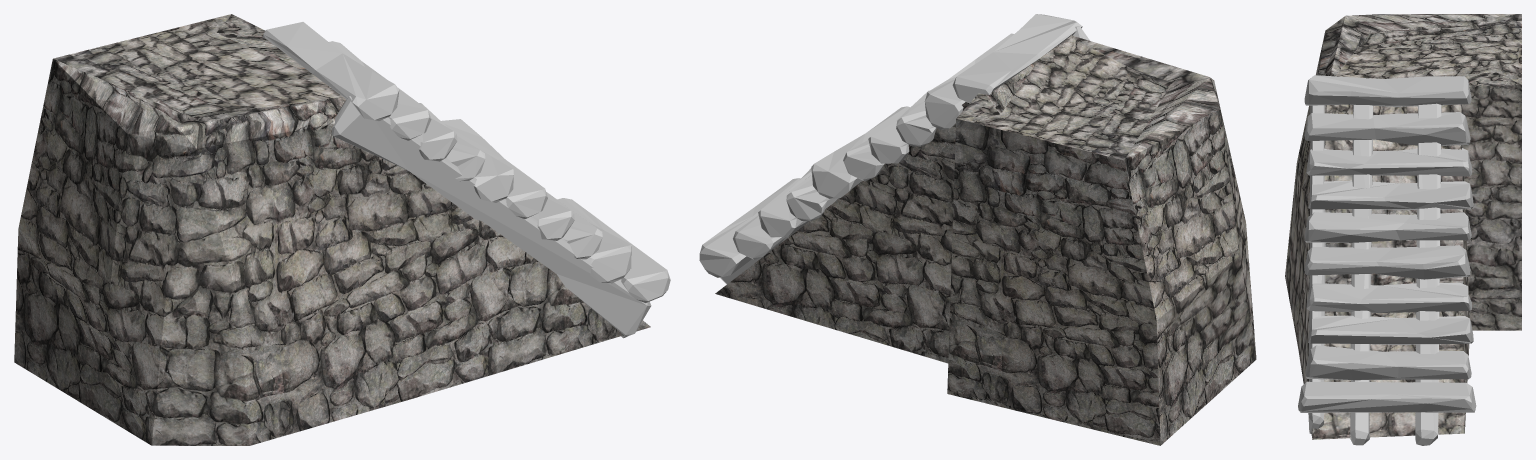
Rendered from StoneRamp_1b_LOD2.fbx.
3 renders of one model, left to right at view 1: azimuth 30°, elevation 25°; view 2: azimuth 150°, elevation 25°; view 3: azimuth 270°, elevation 25°, orthographic. The views are drawn at different scales.
Parts seen in each view (by area): view 1: Stone, Wood; view 2: Stone, Wood; view 3: Wood, Stone.
Part boxes in pixels (x1=…): Stone: x1=14, y1=14, x2=650, y2=445; Wood: x1=262, y1=22, x2=670, y2=338; Stone: x1=715, y1=35, x2=1256, y2=445; Wood: x1=699, y1=14, x2=1089, y2=284; Wood: x1=1298, y1=75, x2=1476, y2=445; Stone: x1=1285, y1=14, x2=1521, y2=439.
Size of the model in its own units: 1014 by 484 by 572.
